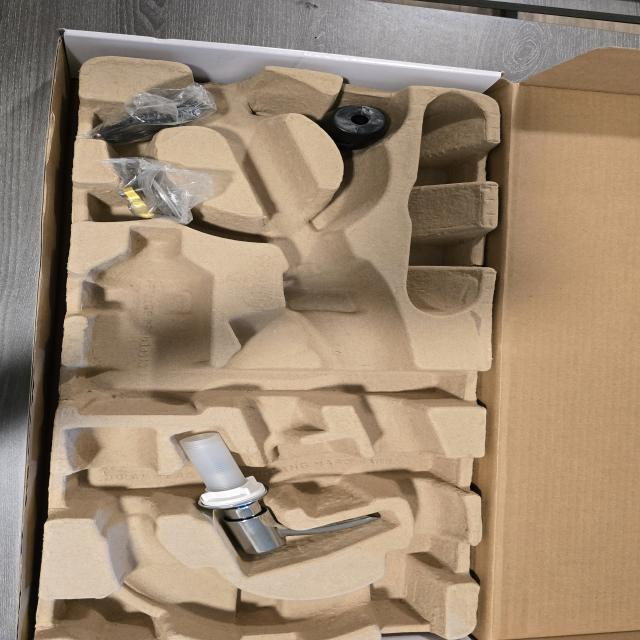1m: (65, 64, 471, 636)
2: (173, 431, 381, 557)
3m: (77, 227, 212, 413)
4m: (407, 92, 489, 318)
5: (321, 105, 391, 150)
6: (99, 158, 226, 224)
7: (84, 78, 222, 148)
